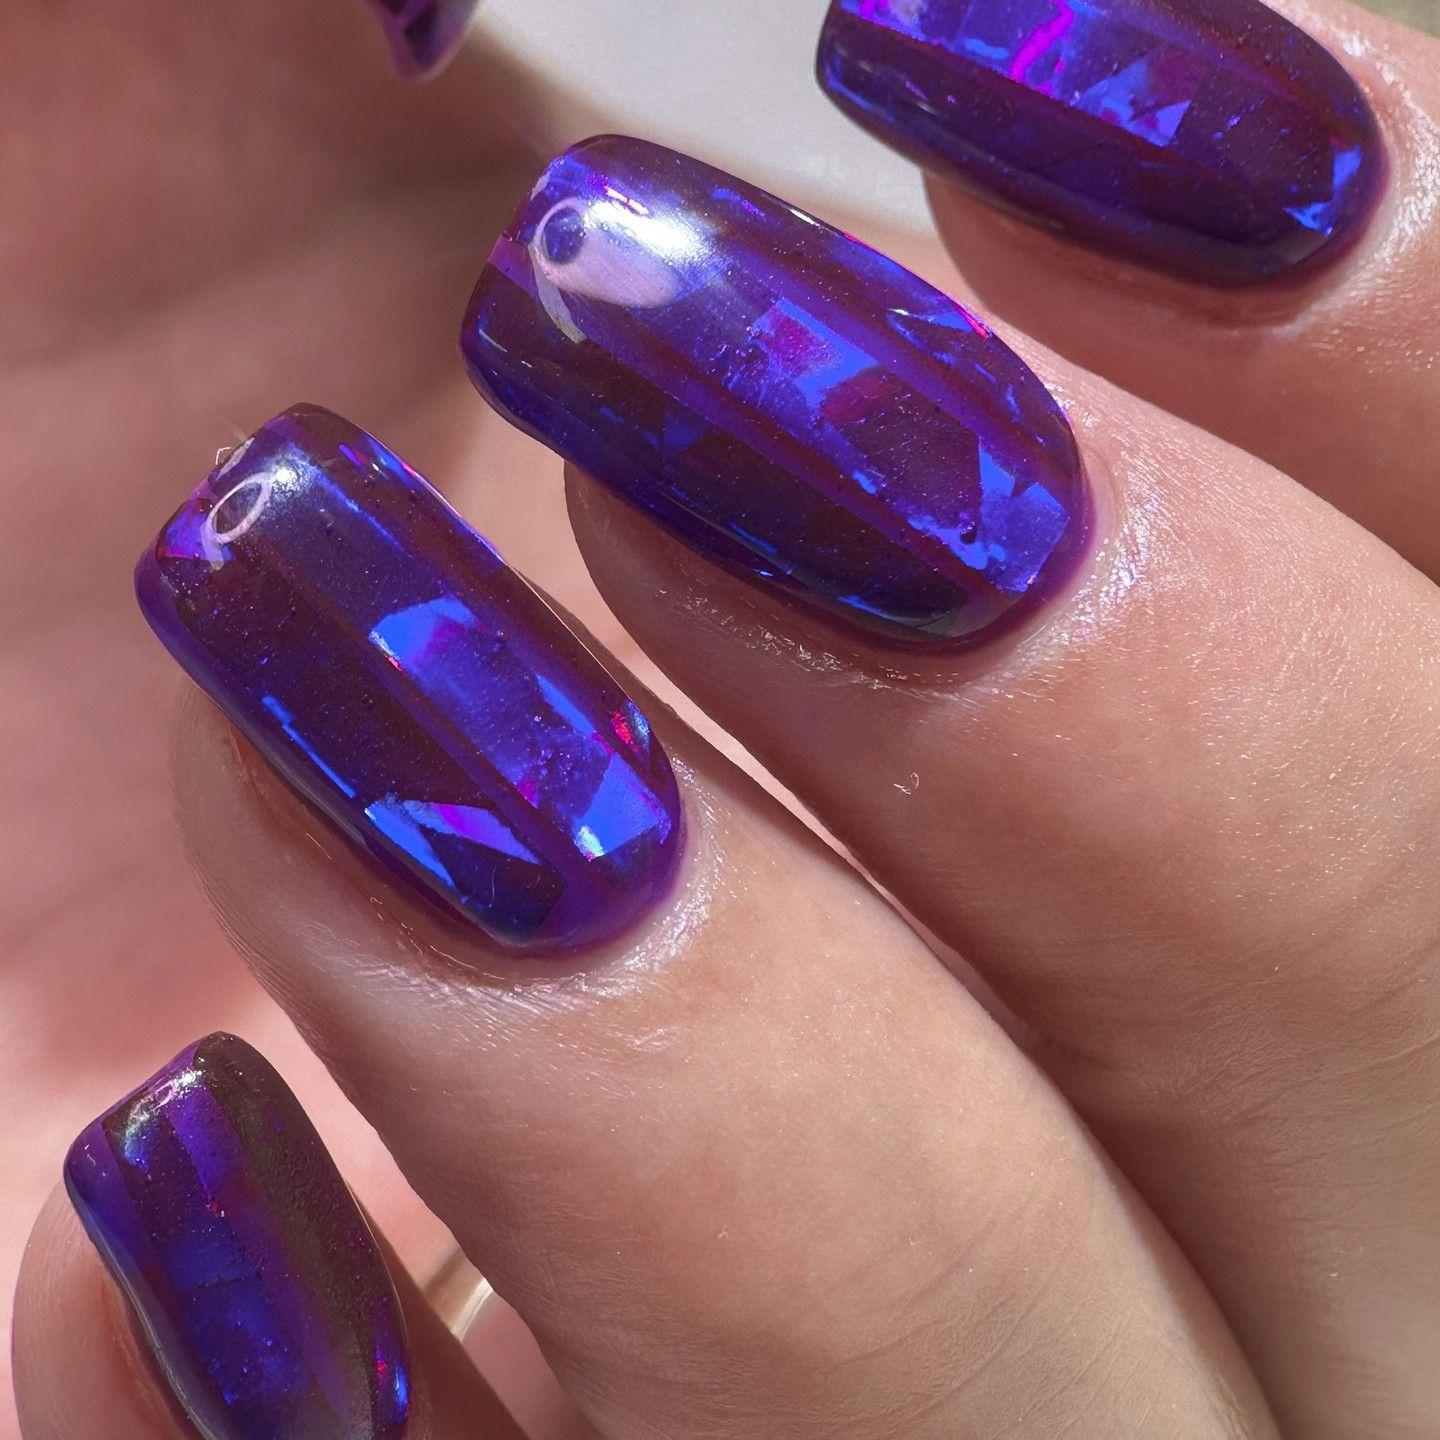nail: (456, 129, 1098, 657), (132, 398, 687, 959), (812, 0, 1388, 290), (59, 1028, 417, 1437)
